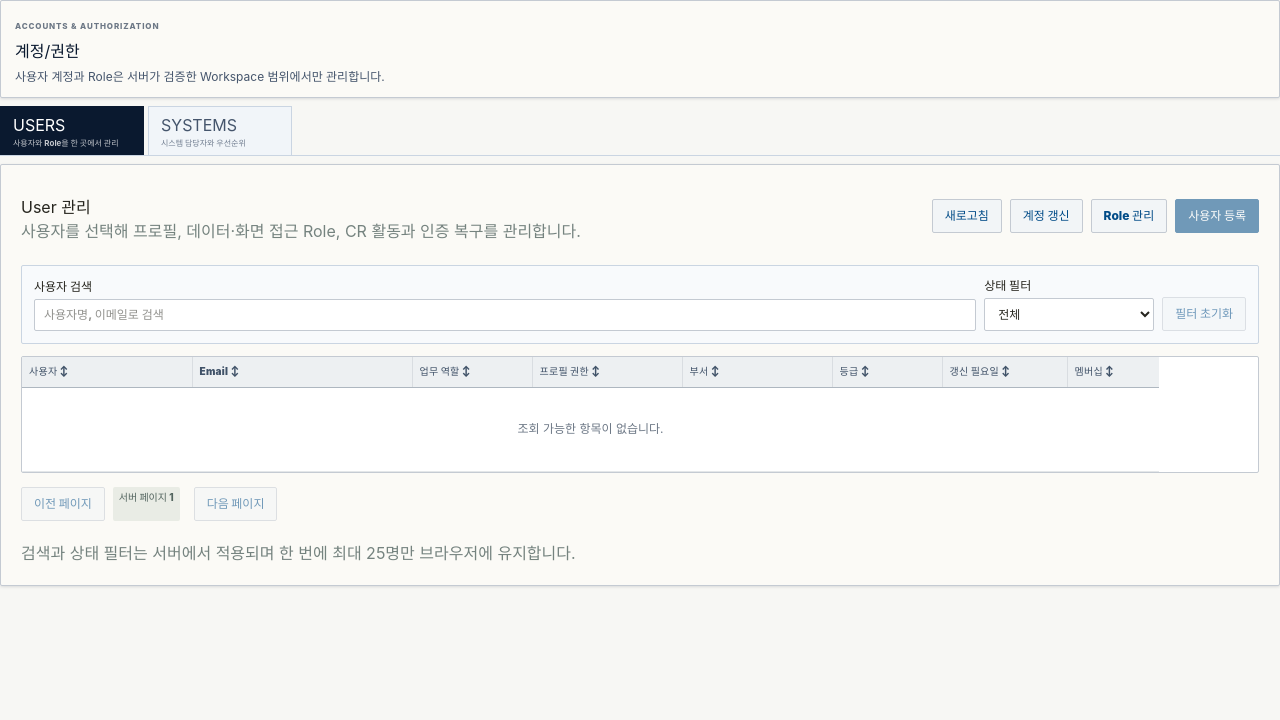
Test: AccountAccessAdmin authorization-bound navigation › opens Role management and account renewals only in their respective modals
The width and height of the screenshot is (1280, 720).
Check: the table named "워크스페이스 사용자 목록" is shown, box [22,357,1159,472]
Click the button "Role 관리" at (1129, 216), box [1091,199,1167,233]
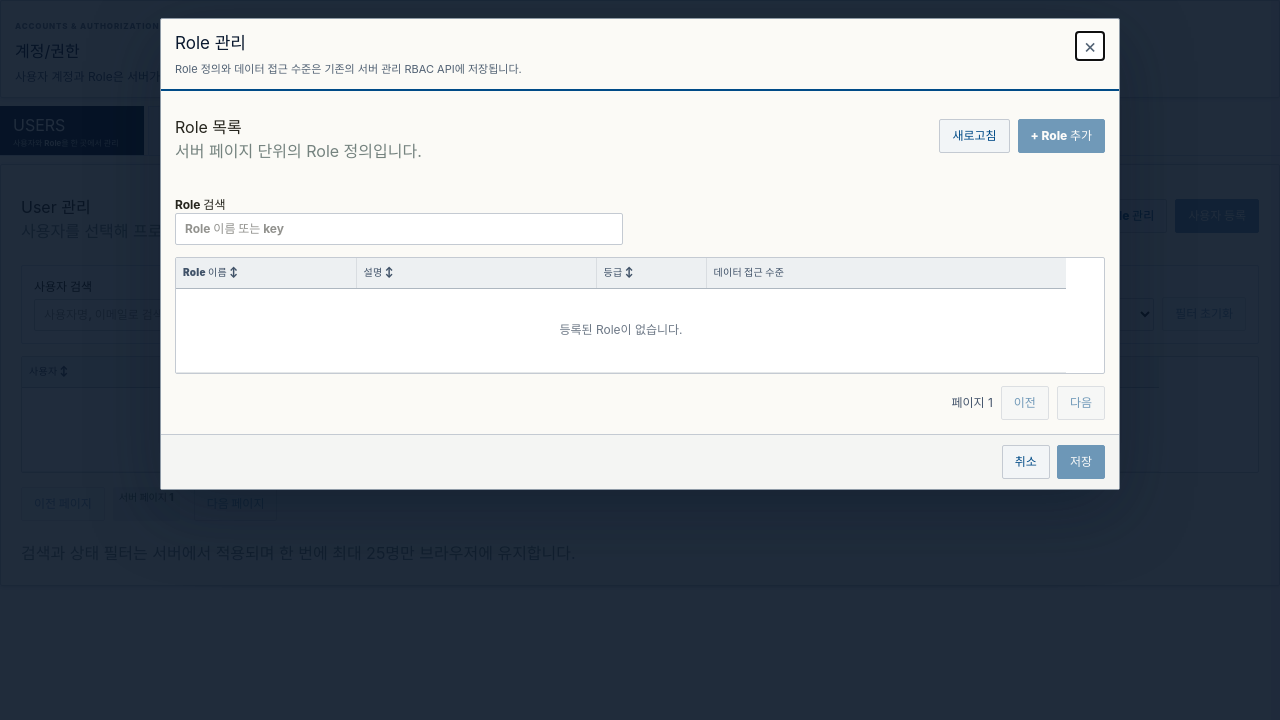
Check: the dialog "Role 관리" is shown
Click the button named "Role 관리 닫기" at (1090, 46), box [1075,31,1105,61]
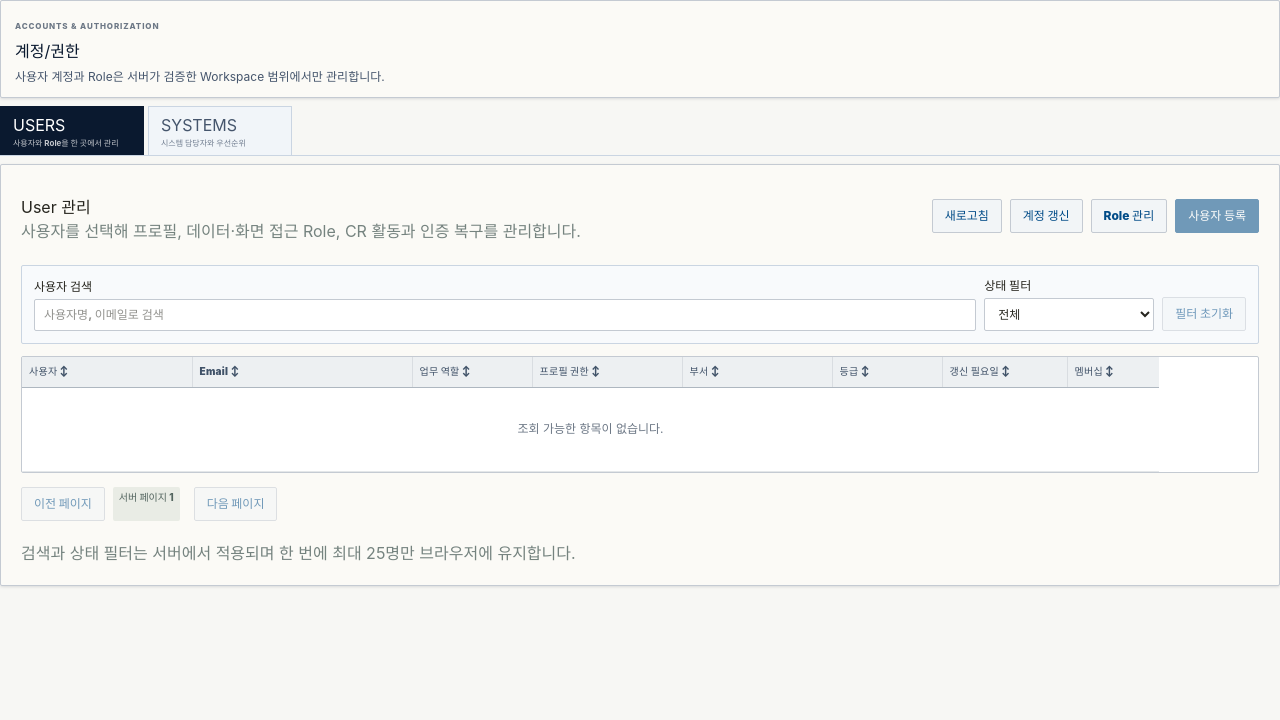
Click the button "계정 갱신" at (1046, 216), box [1010,199,1083,233]
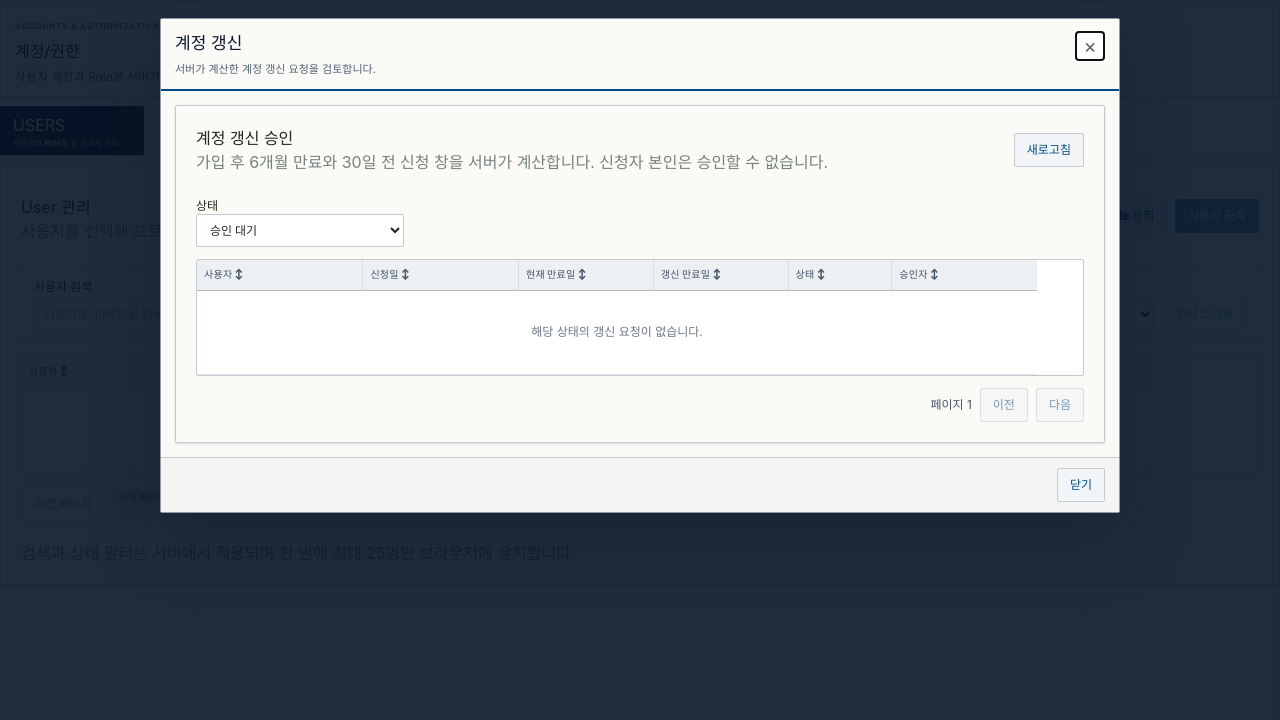
Check: the dialog "계정 갱신" is shown
Check: the table named "멤버십 갱신 요청" is shown, box [197,260,1037,375]
